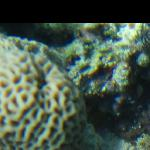dead: (4, 26, 148, 145)
